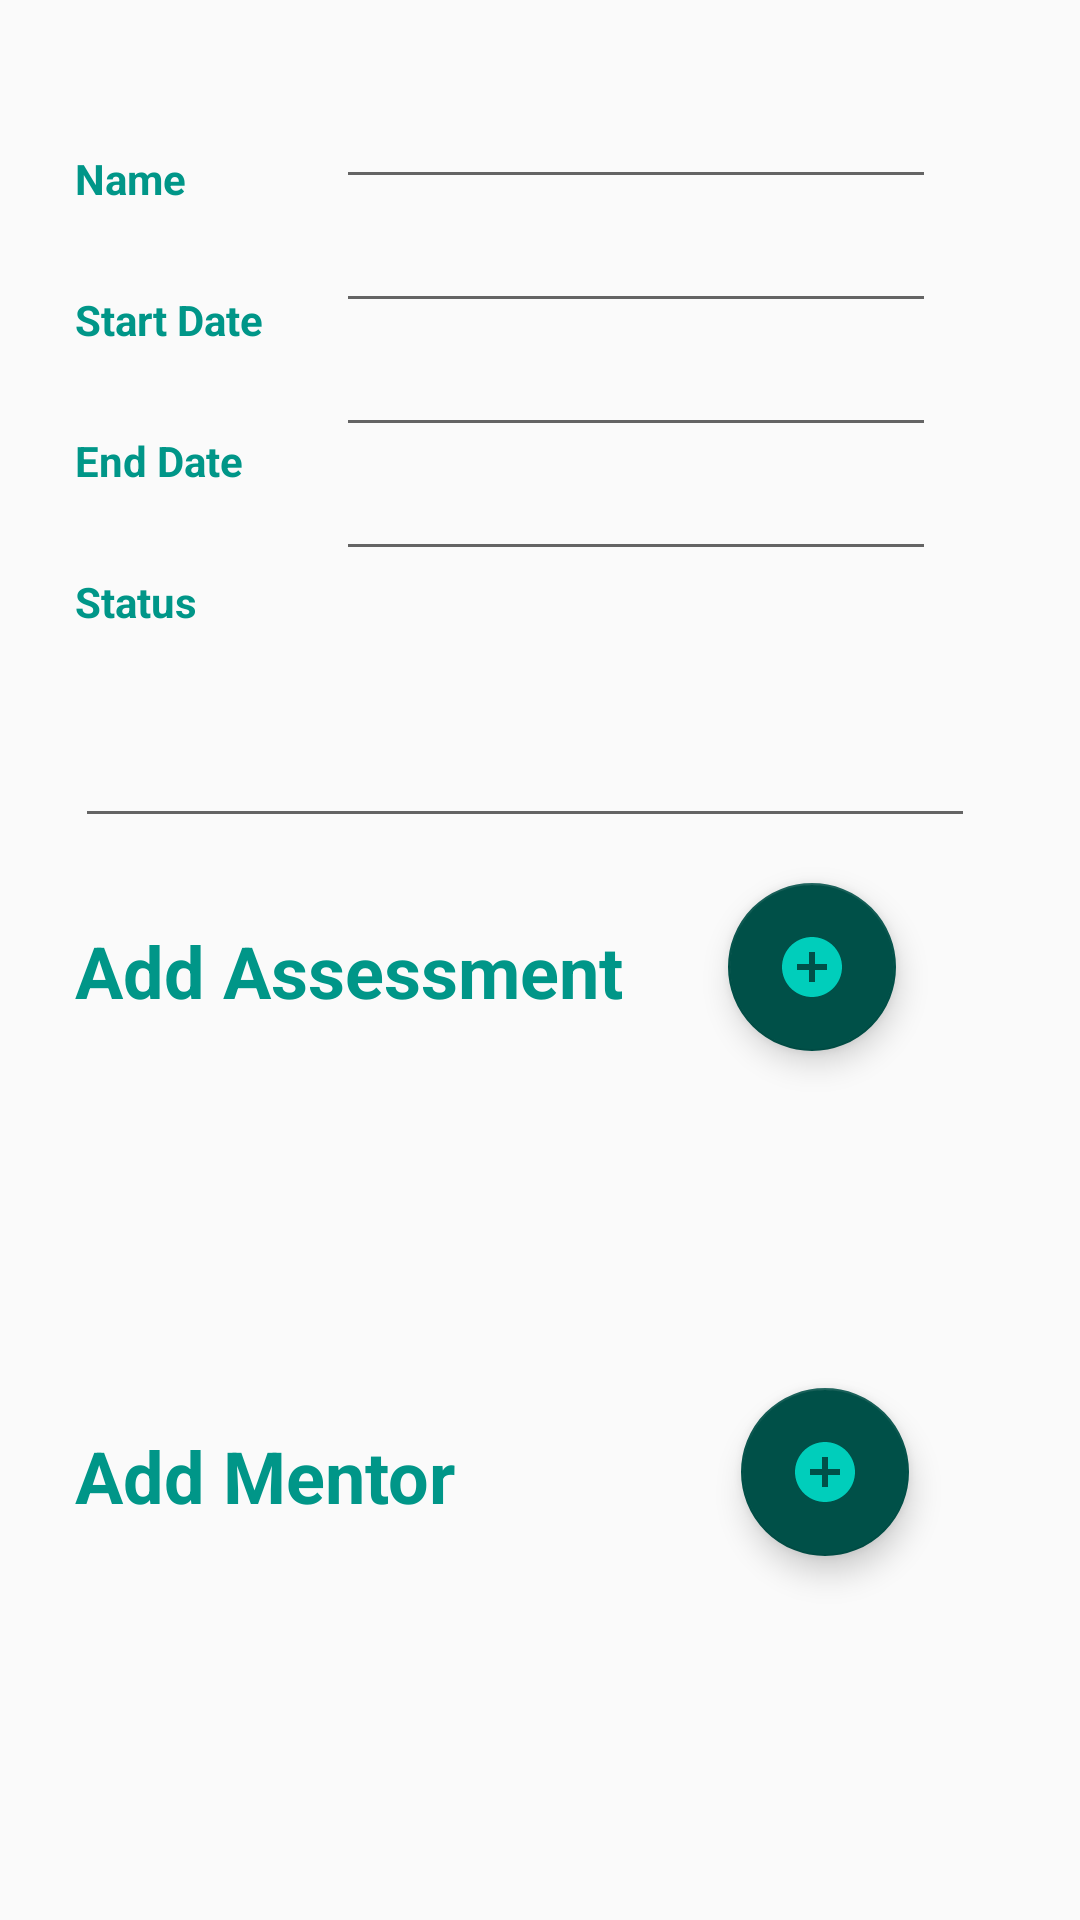

Where icons sit on this 1080w x 1920h app screen, as (x1, y1, x2, y2):
add circle: (728, 883, 896, 1051), (741, 1388, 909, 1556)
